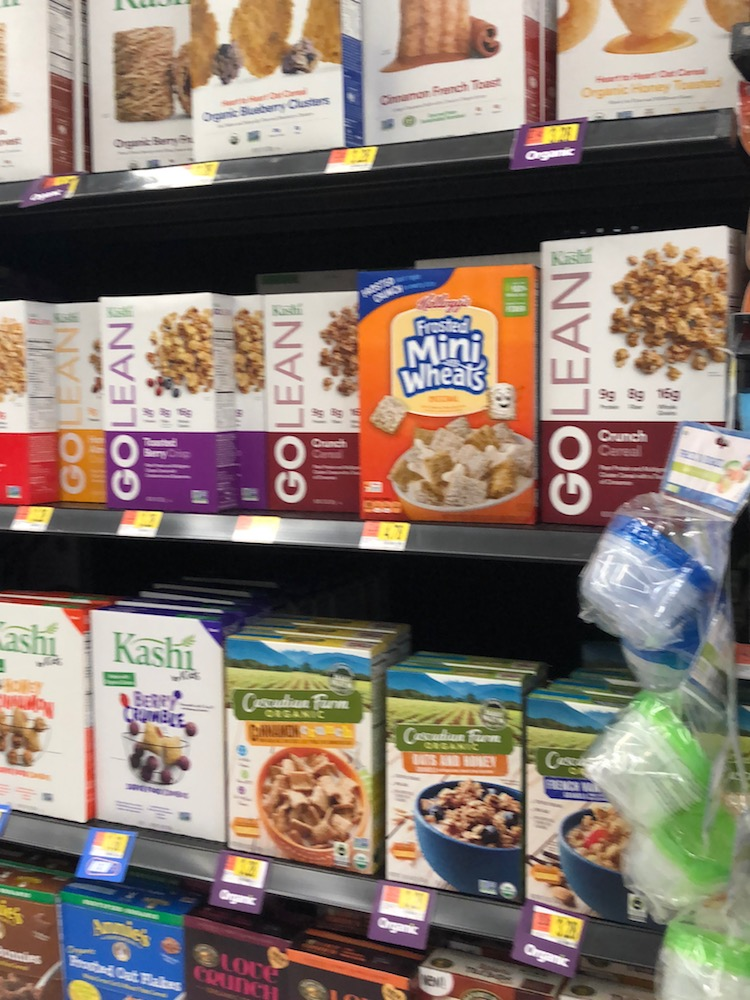Frosted Mini Original -9295869: (351, 282, 545, 529)
